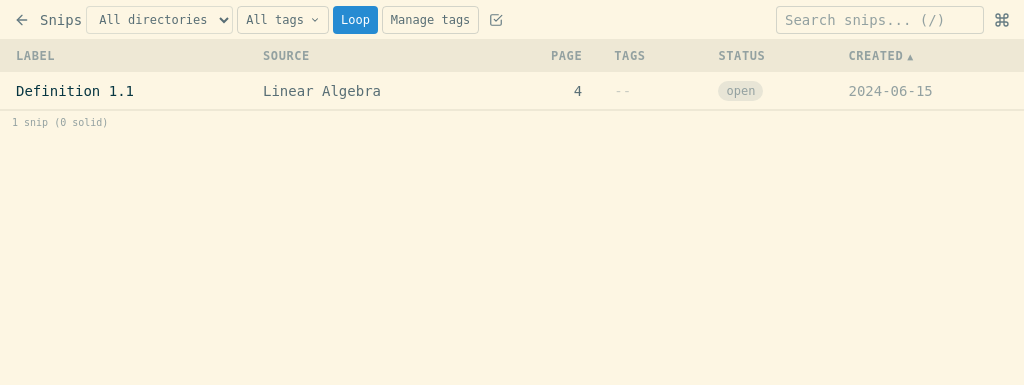
Test: SnipsPage › collapse button removes the expanded row
Right-click the text "Definition 1.1" at (512, 91), box [0, 72, 1023, 110]
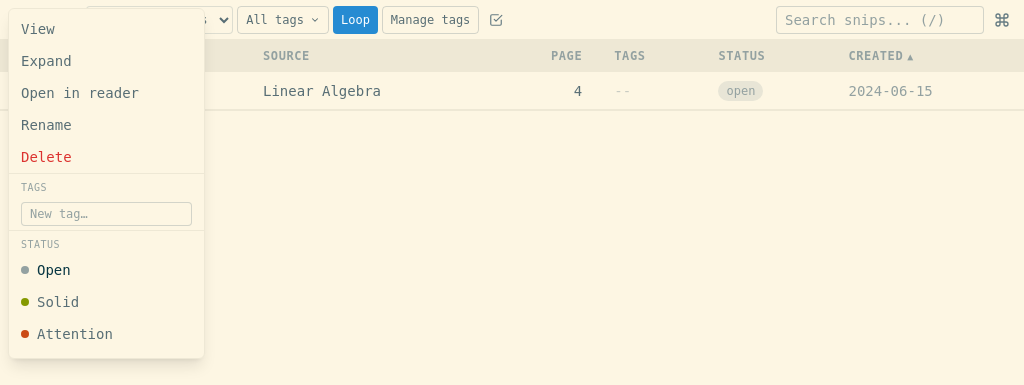
Click the button "Expand" at (106, 61), box [9, 45, 204, 77]
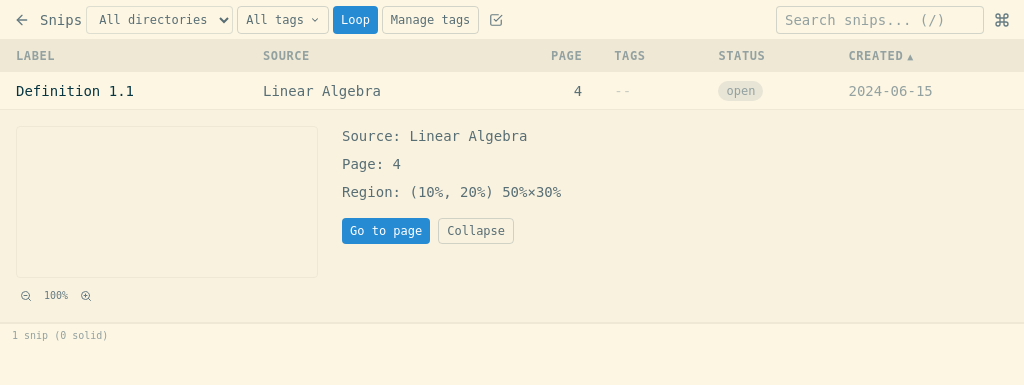
Expected: the button "Collapse" is shown
Click the button "Collapse" at (476, 231), box [438, 218, 514, 244]
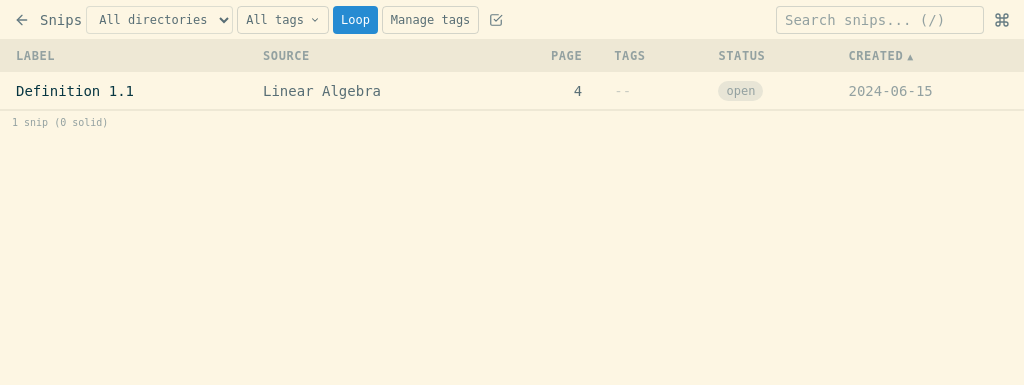
Expected: the button "Collapse" is gone
Expected: the button "Go to page" is gone
